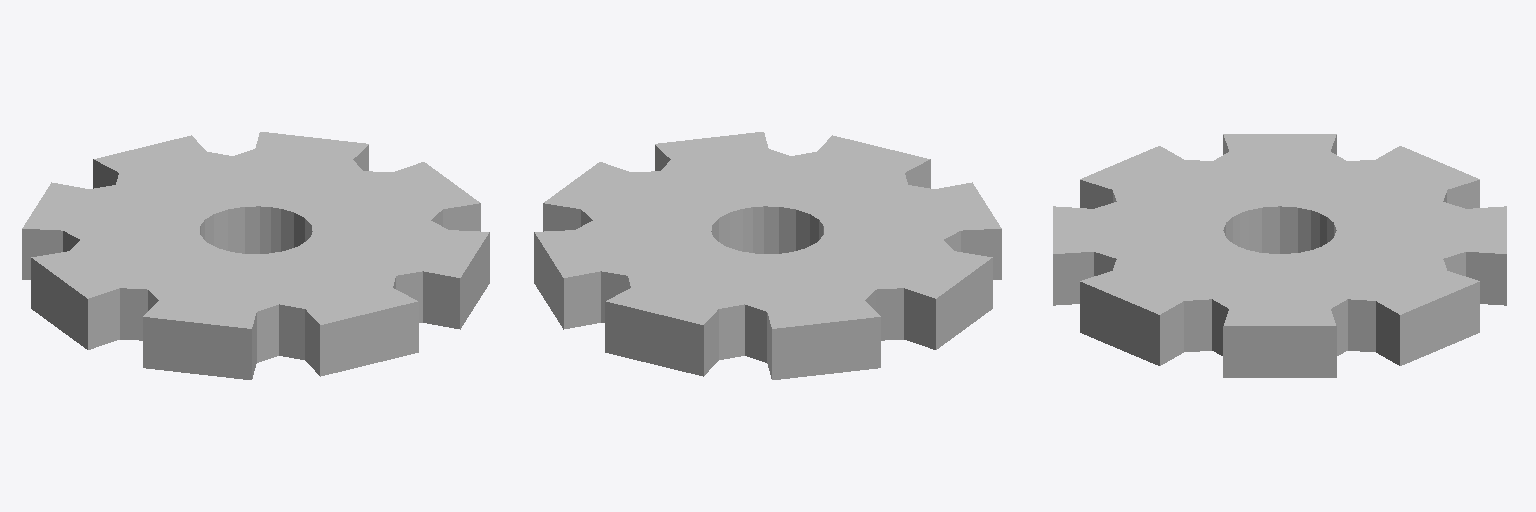
File: gear.obj
The picture shows the model from 3 angles: view 1: azimuth 30°, elevation 25°; view 2: azimuth 150°, elevation 25°; view 3: azimuth 270°, elevation 25°; orthographic projection.
Visible parts, largest first — view 1: Gear1; view 2: Gear1; view 3: Gear1.
Part boxes in pixels (x1,y1,x2,y2): Gear1: (22, 132, 489, 379); Gear1: (534, 132, 1001, 379); Gear1: (1053, 134, 1506, 377).
Size of the model in its own units: 8 by 1 by 8.